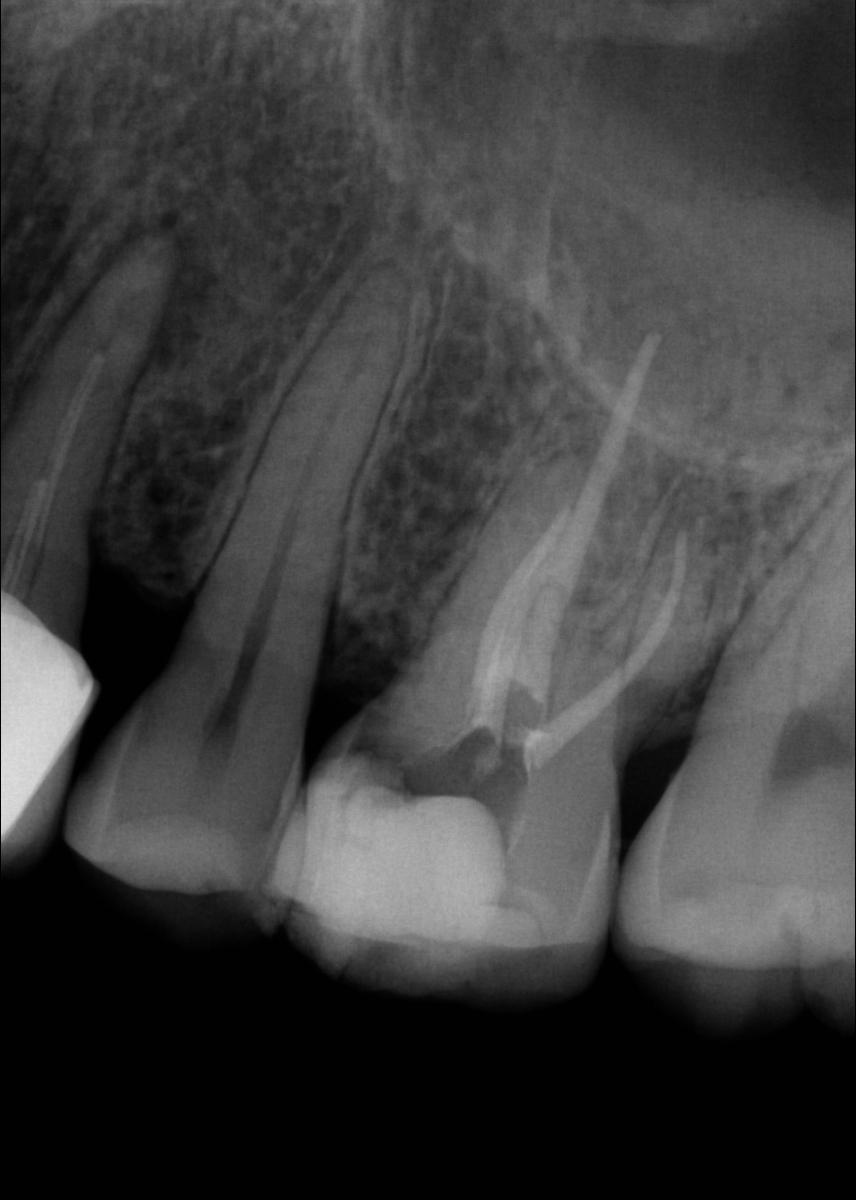Furcation Involvement: (110, 210, 218, 373)
